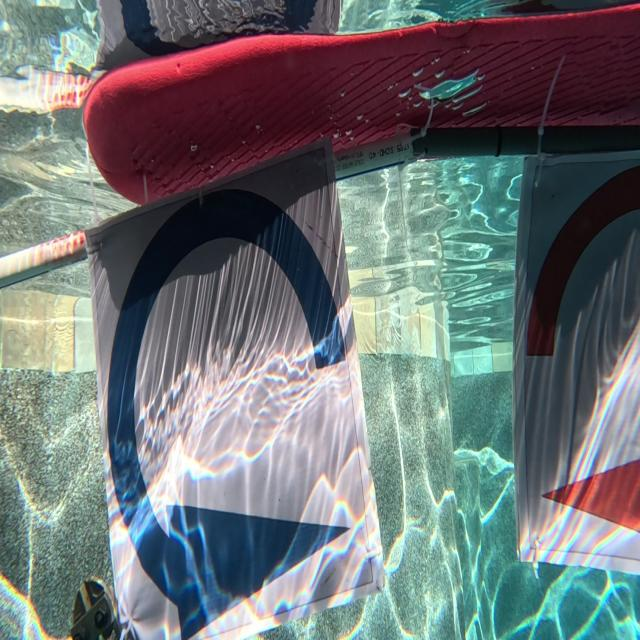blue_side: (115, 192, 373, 631)
red_side: (522, 158, 640, 561)
